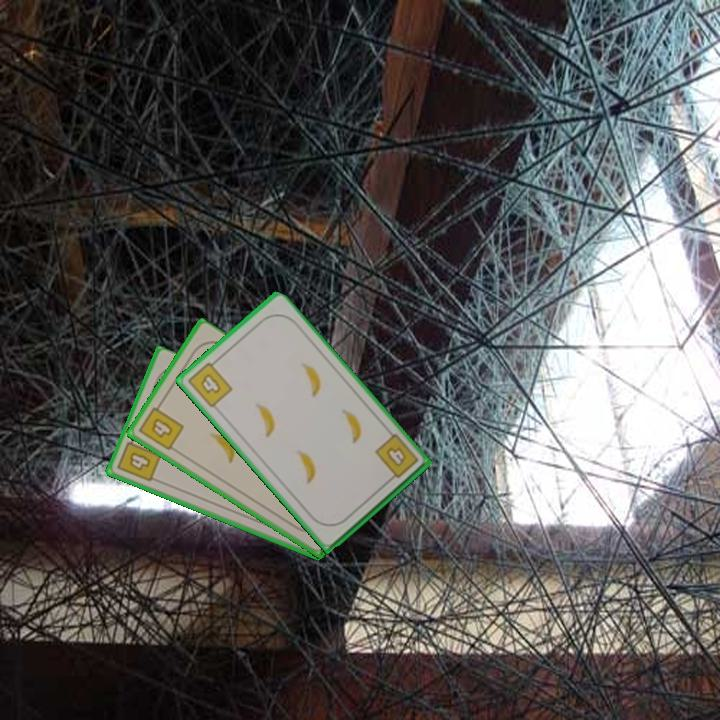4b: (184, 355, 235, 411), (135, 399, 187, 453), (371, 430, 421, 485), (114, 433, 164, 485)
